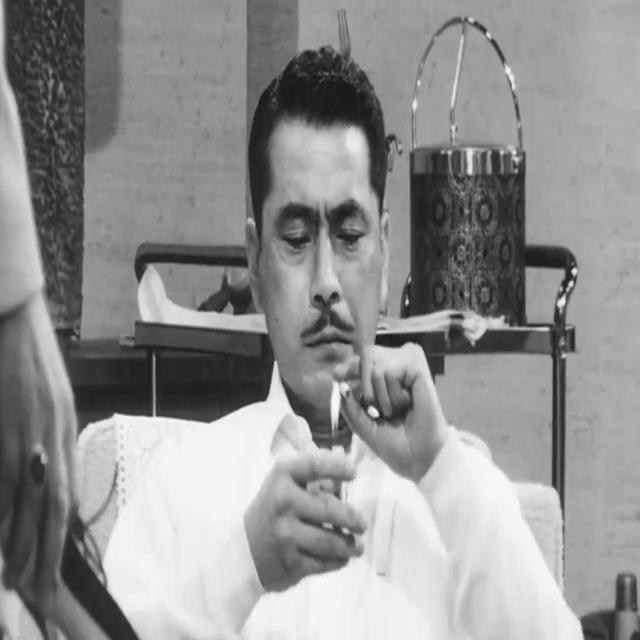Smooking: (339, 372, 353, 403)
